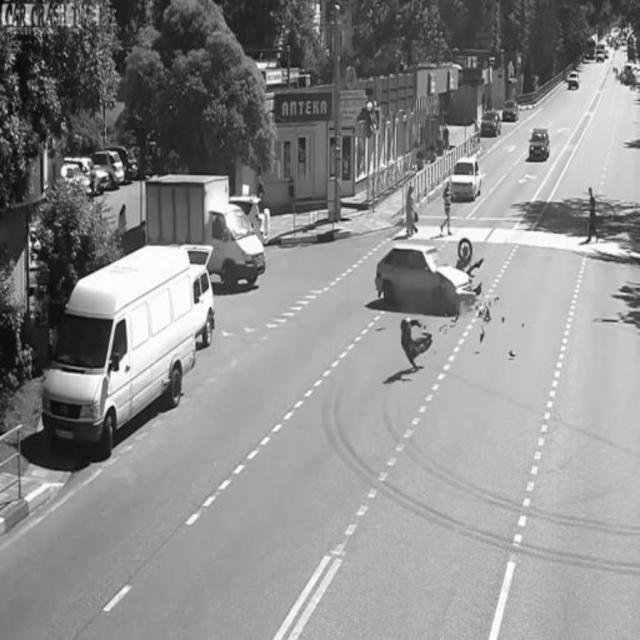accident: (371, 232, 492, 313)
person: (398, 314, 435, 372), (583, 180, 603, 248), (400, 185, 422, 237), (439, 174, 455, 235)
vehicle: (43, 251, 193, 447), (145, 174, 266, 287), (232, 194, 272, 244), (450, 152, 485, 206), (89, 147, 124, 189), (525, 124, 553, 166), (477, 107, 504, 141), (501, 97, 519, 125), (565, 66, 580, 93)
